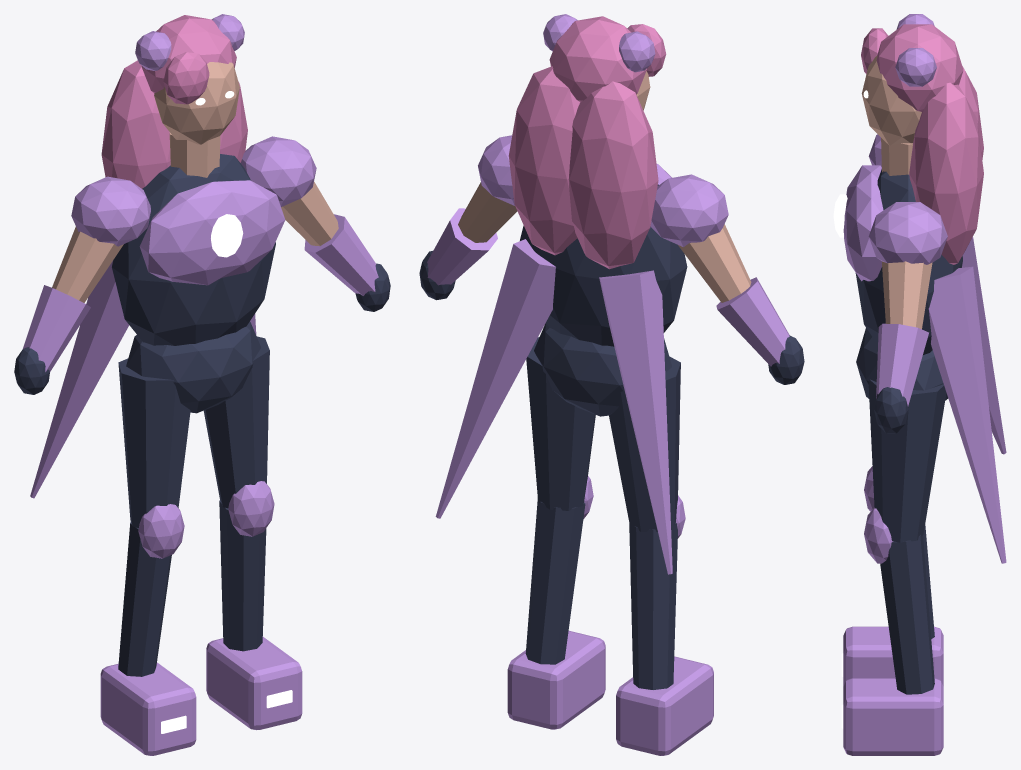
The model's file is SM_Seraphine.fbx.
3 renders of one model, left to right at view 1: azimuth 30°, elevation 25°; view 2: azimuth 150°, elevation 25°; view 3: azimuth 270°, elevation 25°, orthographic. The views are drawn at different scales.
Visible parts, largest first — view 1: SM_Seraphine; view 2: SM_Seraphine; view 3: SM_Seraphine.
Part boxes in pixels (<box>): SM_Seraphine: <box>14,14,390,755</box>; SM_Seraphine: <box>419,14,804,755</box>; SM_Seraphine: <box>833,14,1006,755</box>.
Size of the model in its own units: 98.18 by 39.76 by 176.
